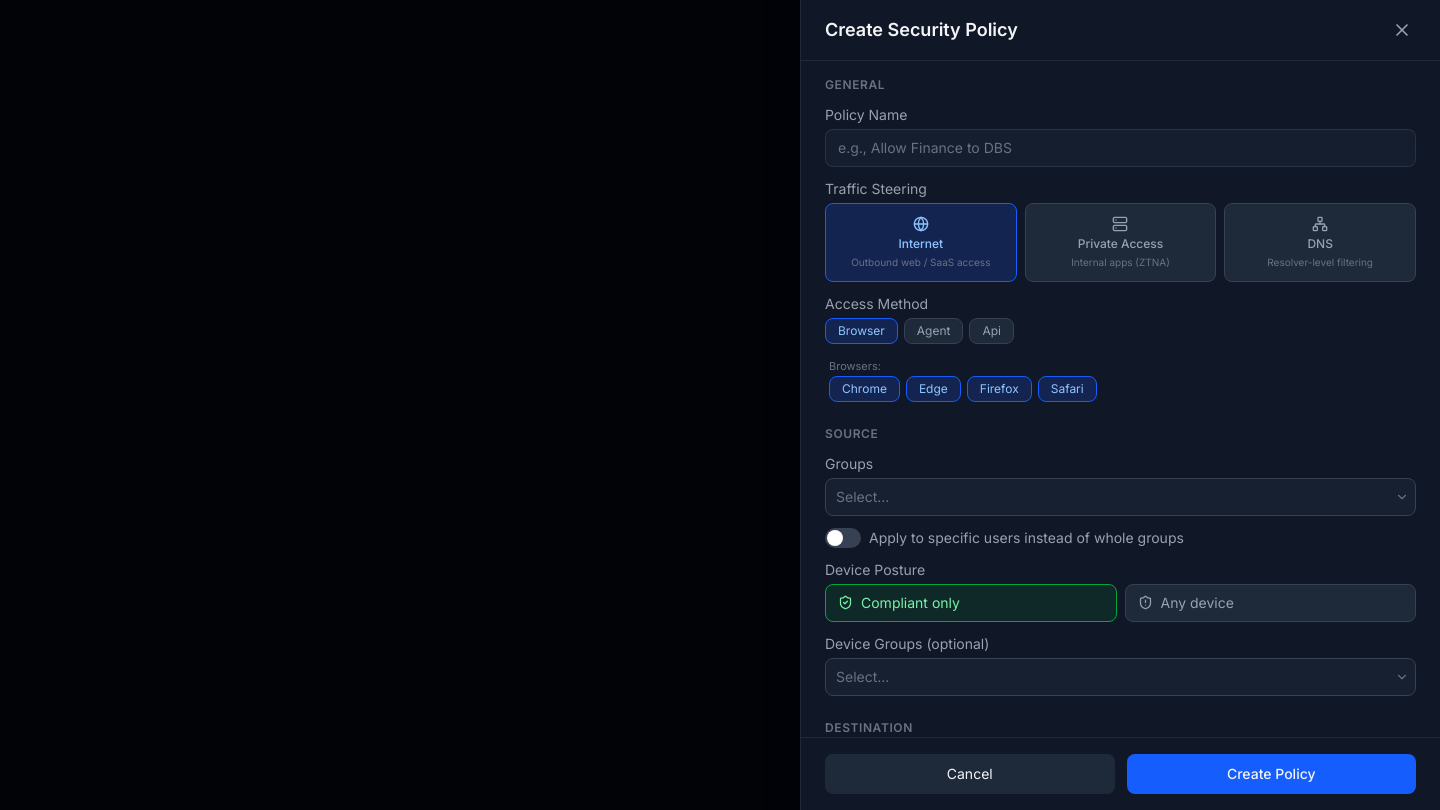
it: PolicyEditor — steering-driven slim wizard › Private Access shows WAF section + AI/ML anomaly detection
Step 1. Click the text "Private Access" → [1120, 244], box [1078,236,1163,252]
(page scrolled)
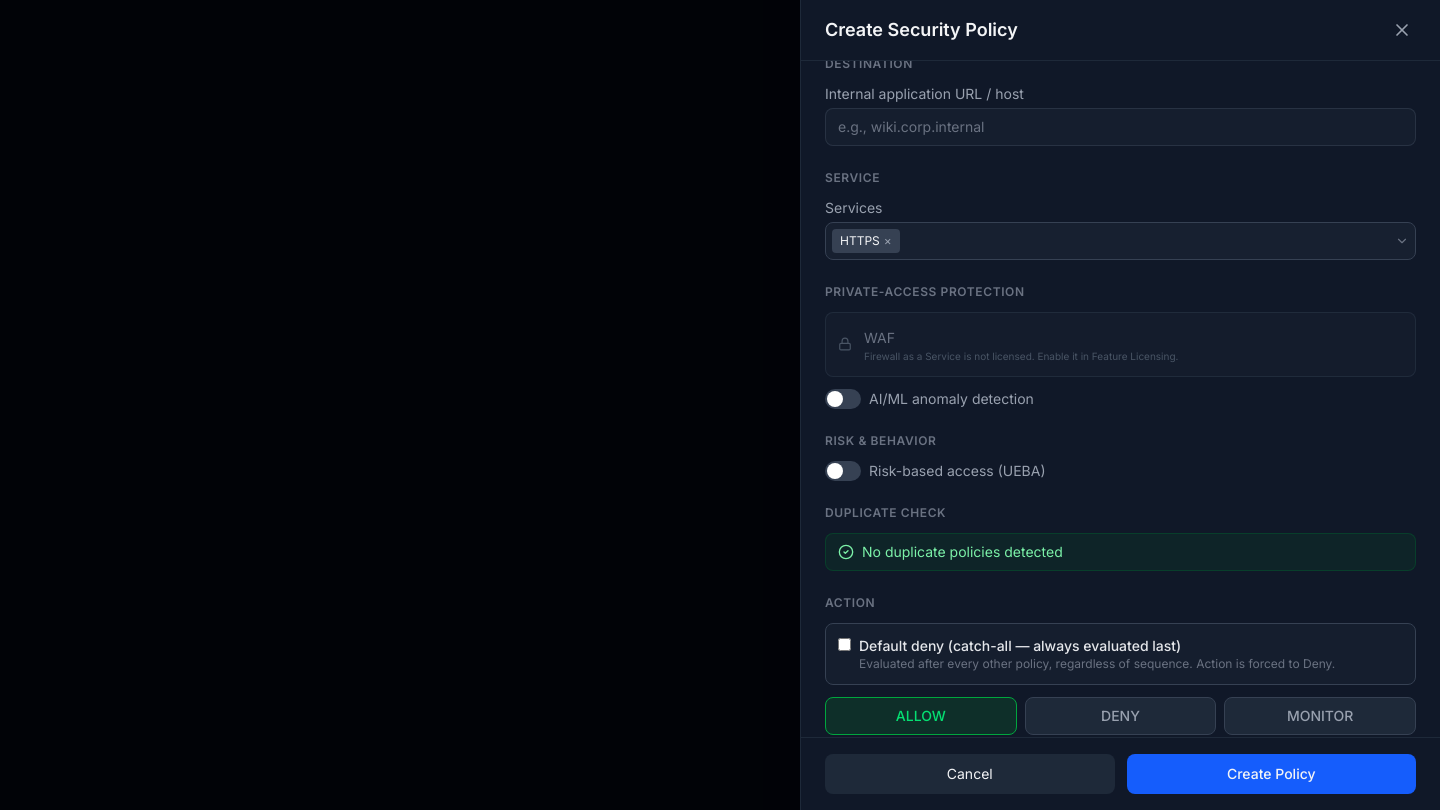
Result: the heading "Private-Access Protection" is shown at [825,284,1025,298]
Result: the text "AI/ML anomaly detection" is shown at [869,388,1034,408]
